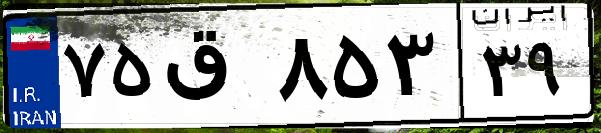3: (385, 28, 445, 110), (475, 38, 525, 113)
5: (330, 28, 385, 110), (110, 28, 158, 98)
7: (57, 26, 110, 100)
8: (270, 28, 330, 110)
9: (525, 38, 570, 115)
ق: (158, 20, 270, 120)
